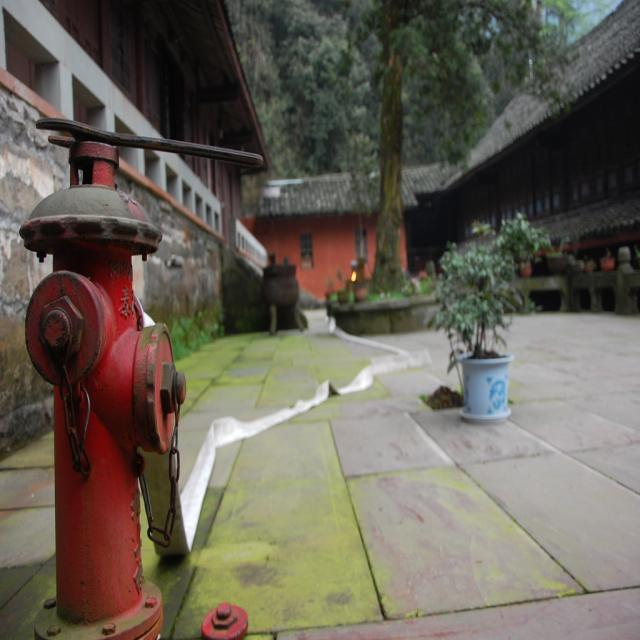fire_hydrant: (20, 141, 186, 639)
